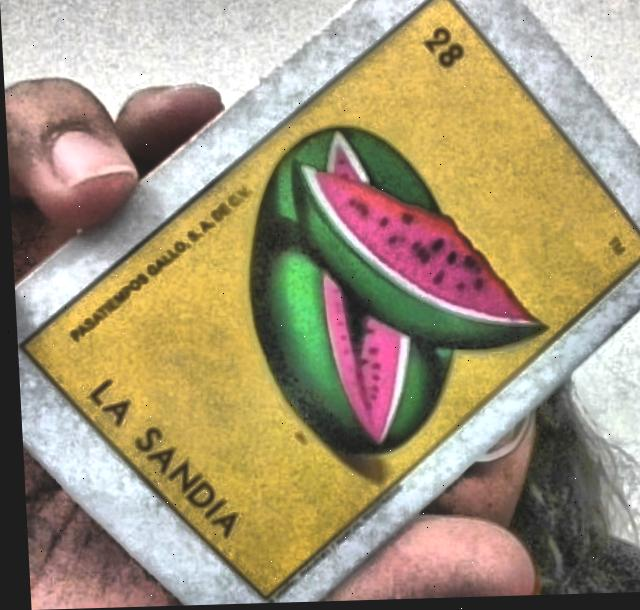La Sandia: (18, 0, 640, 603)
